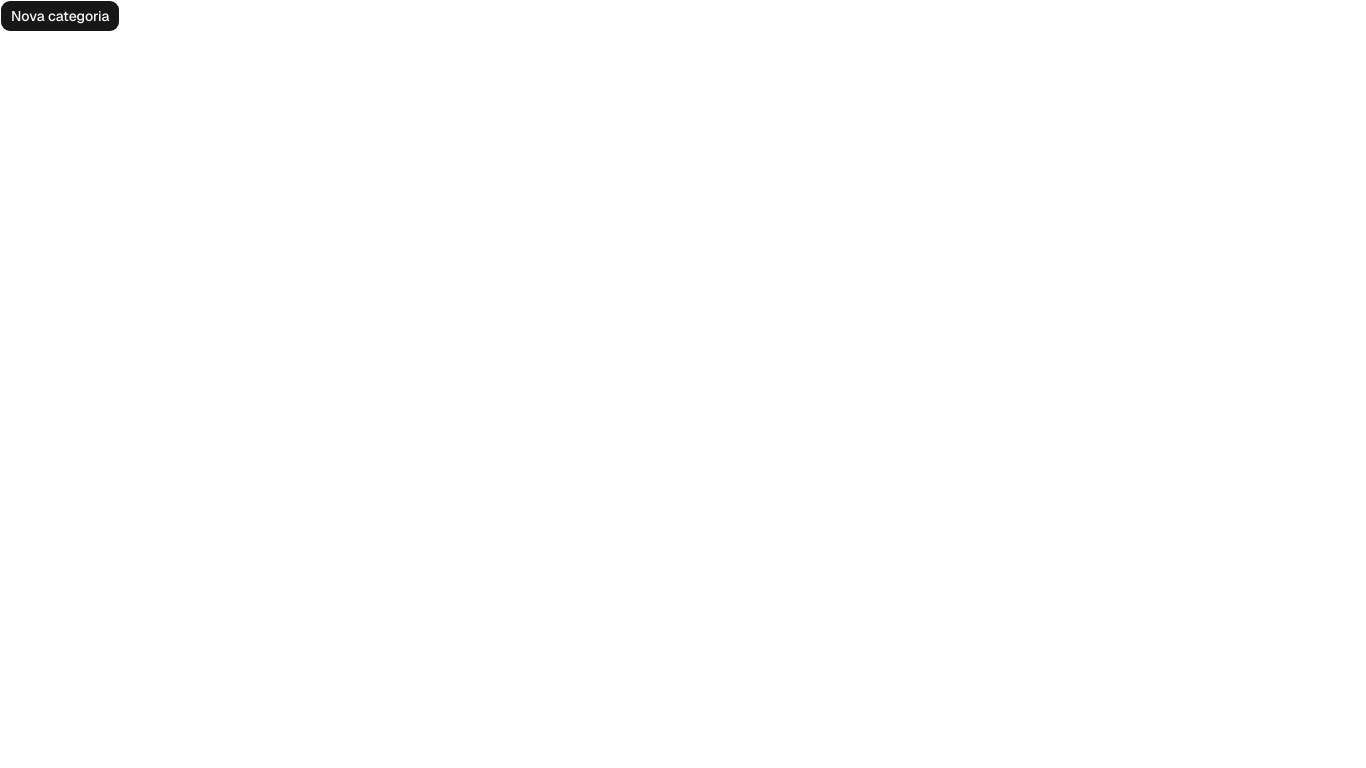
Test case: CreateCategoryDialog › shows the field error under Nome and keeps the dialog open
The image size is (1366, 768).
Click the button "Nova categoria": (60, 16) [0,0,120,32]
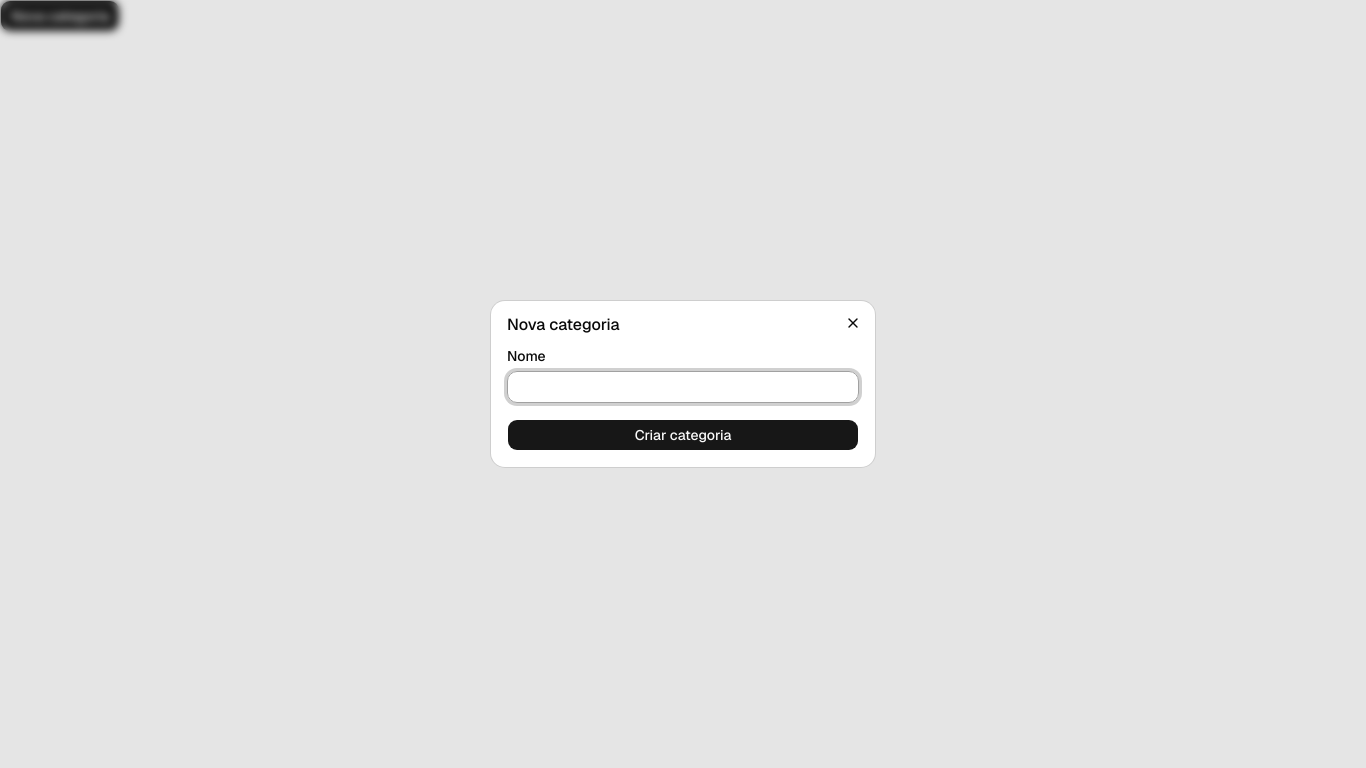
In the field labelled "Nome": (683, 387) [507,371,859,403], type "Bebidas"
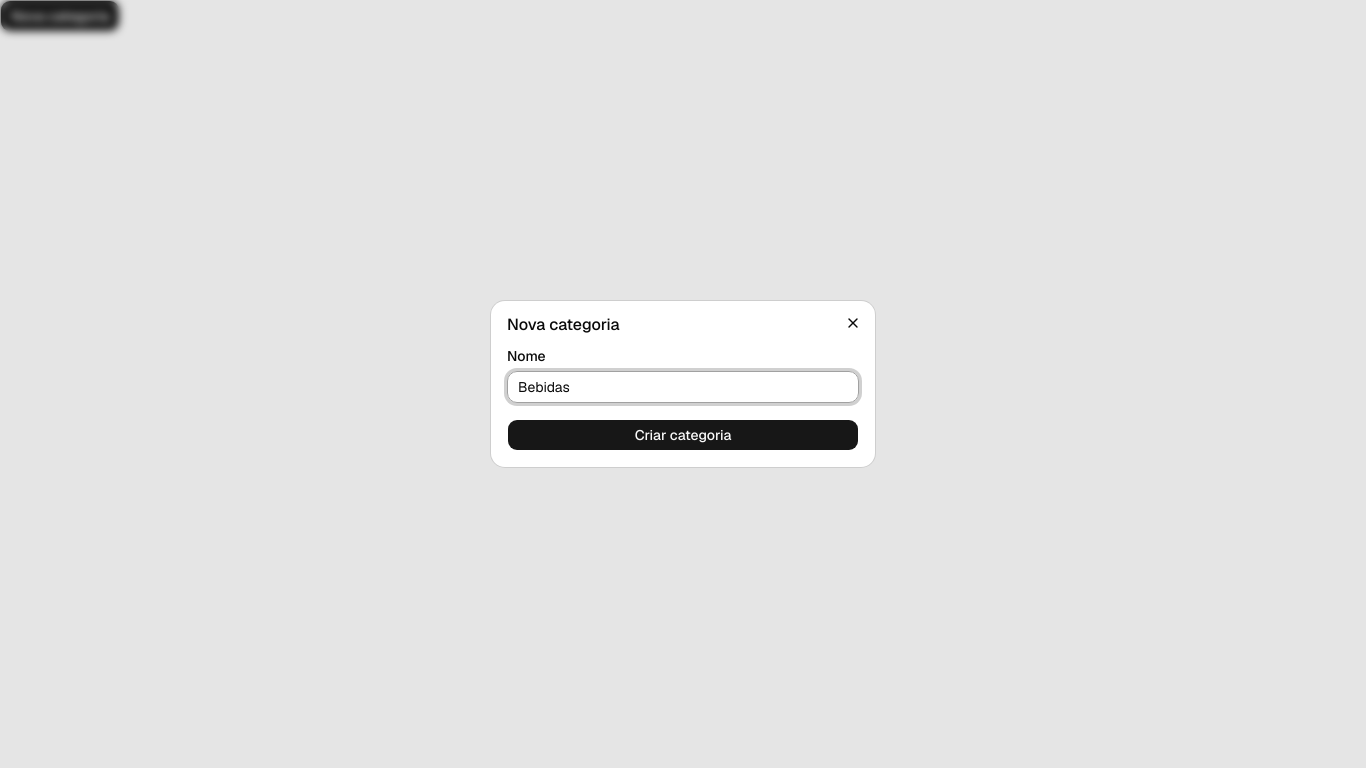
Click the button "Criar categoria": (683, 435) [507,419,859,451]
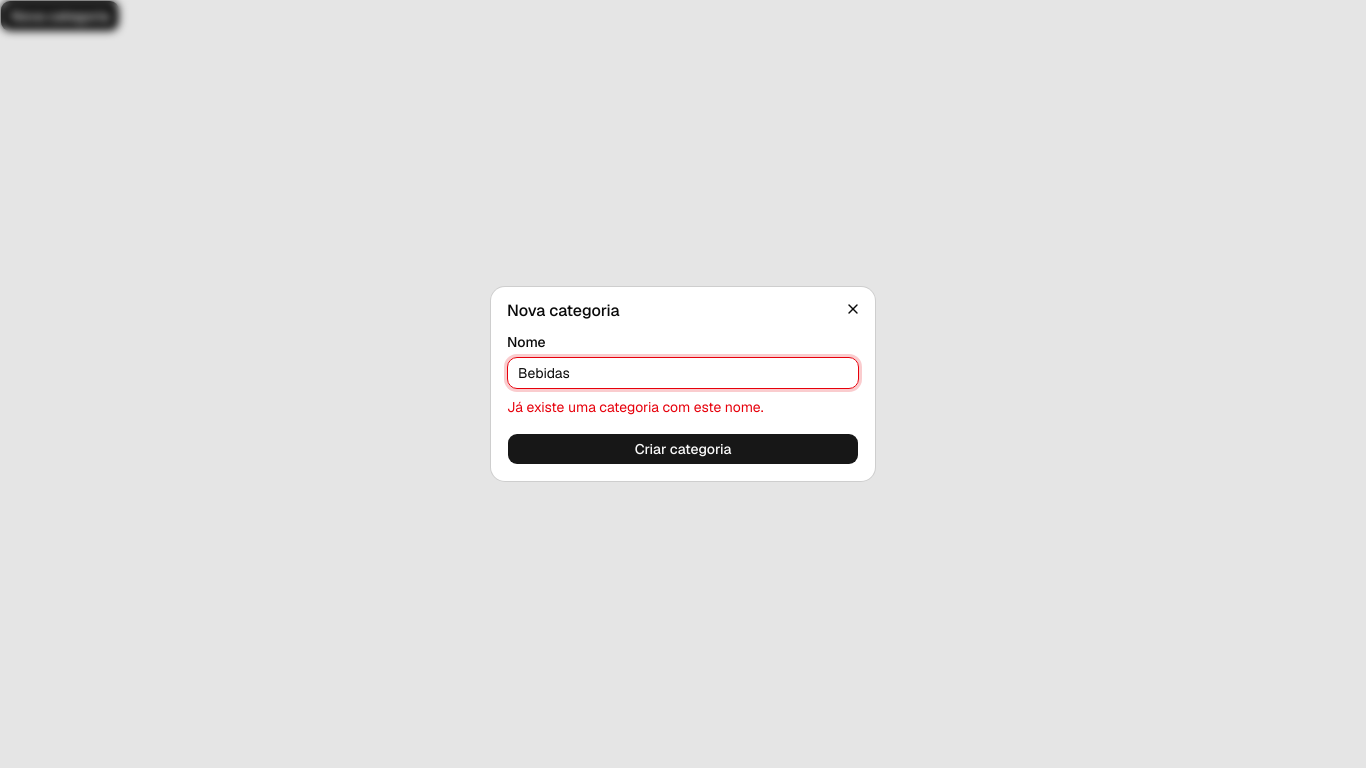
Result: the dialog is shown at [491,287,875,481]
Result: the text "Já existe uma categoria com este nome." is shown at [507,398,764,416]
